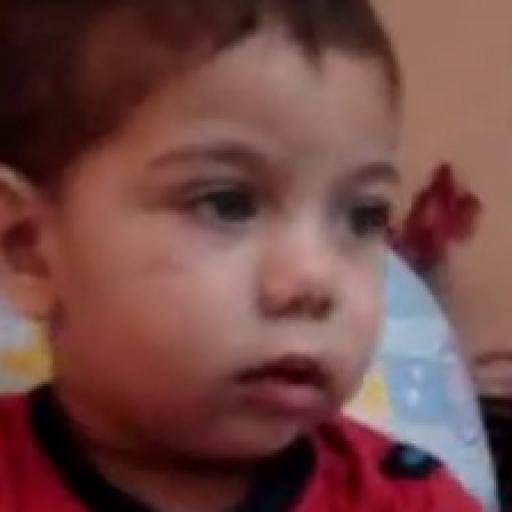Autism: (66, 22, 398, 475)
